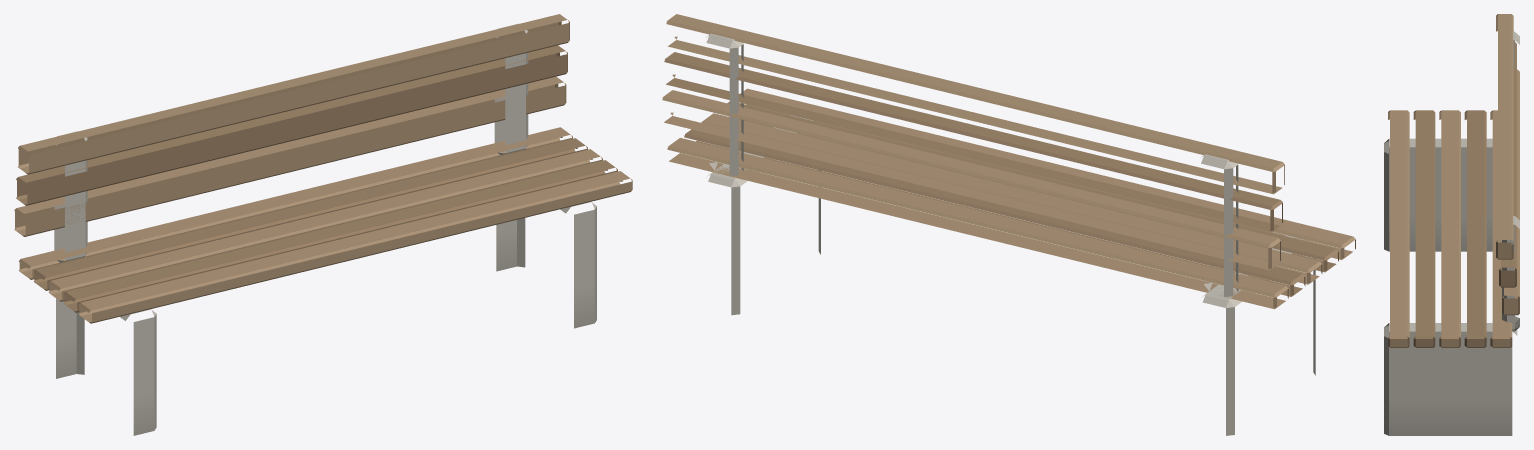
The model's file is bench_slat.glb.
3 views of the same model, side by side, from view 1: azimuth 30°, elevation 25°; view 2: azimuth 150°, elevation 25°; view 3: azimuth 270°, elevation 25° (orthographic). The views are drawn at different scales.
Visible parts, largest first — view 1: bench_slat; view 2: bench_slat; view 3: bench_slat.
Part boxes in pixels (bbox=[...]): bench_slat: bbox=[14, 14, 632, 435]; bench_slat: bbox=[662, 14, 1355, 435]; bench_slat: bbox=[1384, 14, 1519, 435].
Size of the model in its own units: 2.1 by 0.905 by 0.53.
